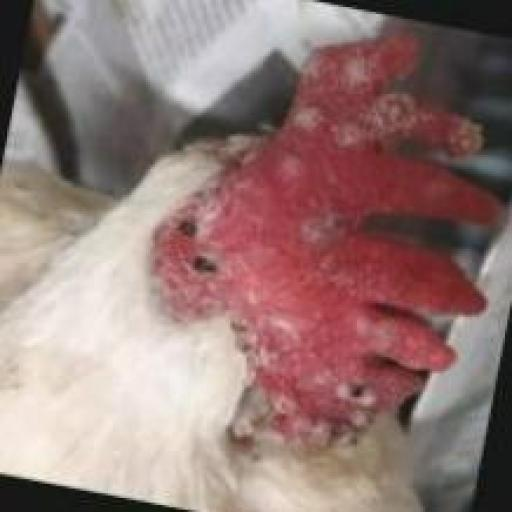disease: (160, 191, 375, 450), (366, 110, 471, 152), (234, 135, 306, 176), (333, 52, 388, 94), (327, 109, 377, 155), (296, 94, 337, 144)
